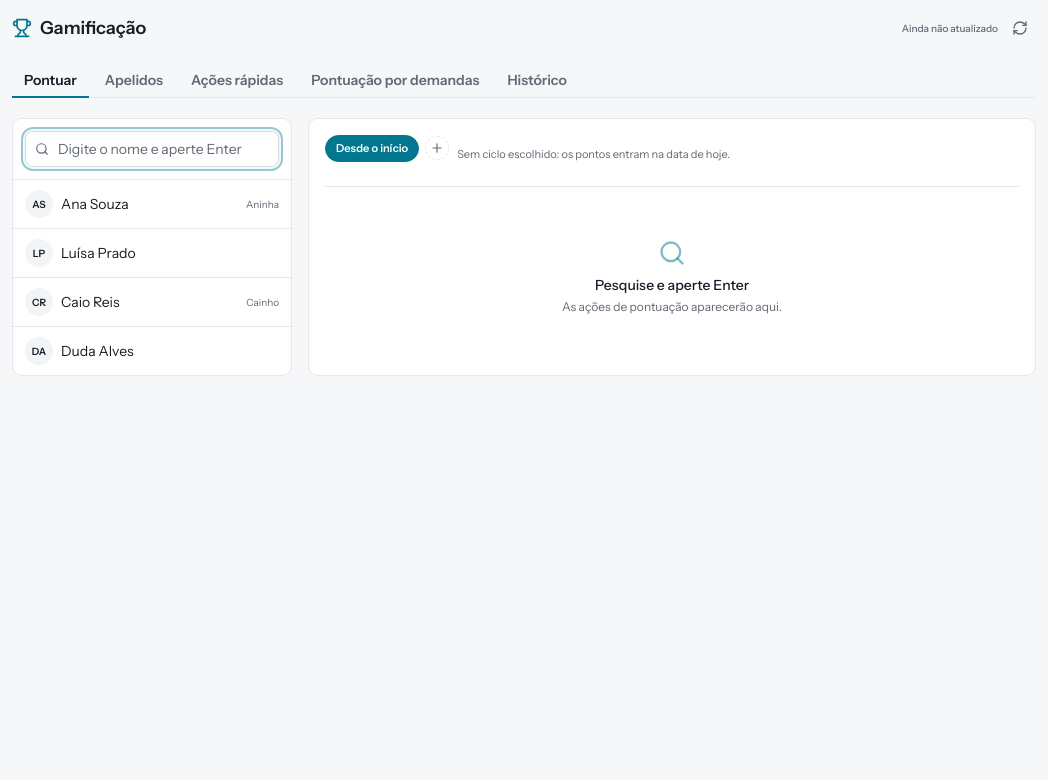
Test: aba de apelidos › mostra quantos faltam por área sem precisar abrir
What coordinates should you click on to do the following:
click the button "Apelidos"
I would click on:
 (134, 81)
Its box is [93,64,175,98].
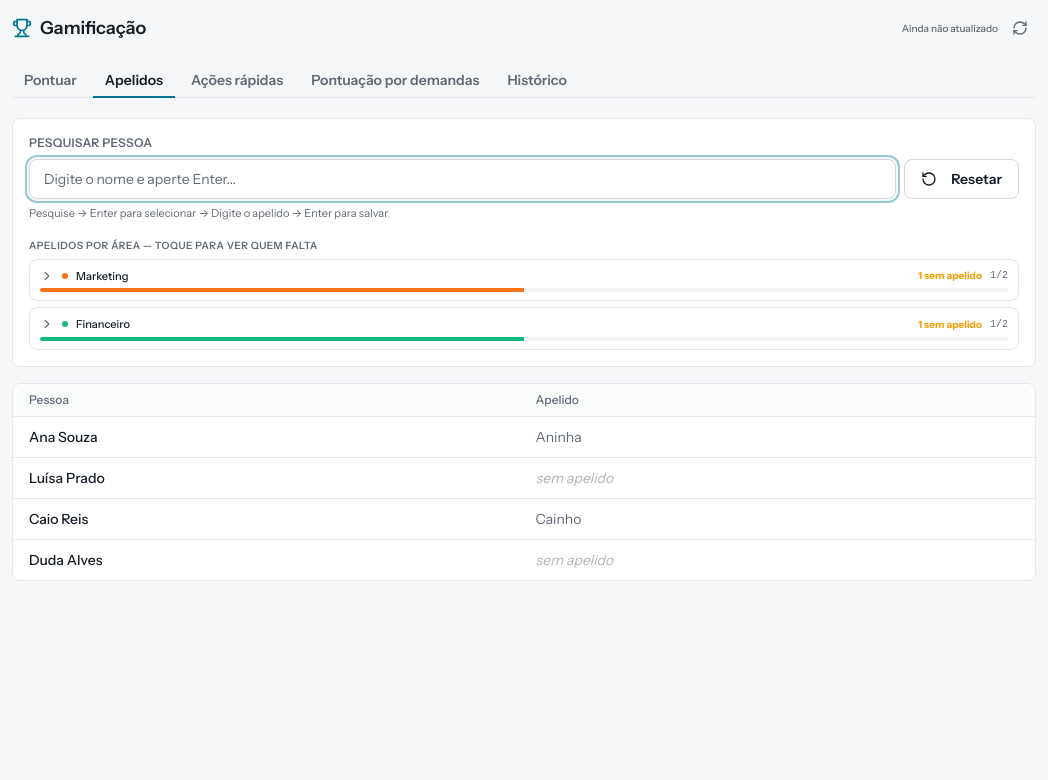
Now the 1st text "1 sem apelido" is shown, box [918,268,982,283]
Now the 1st text "1/2" is shown, box [990,268,1008,283]
